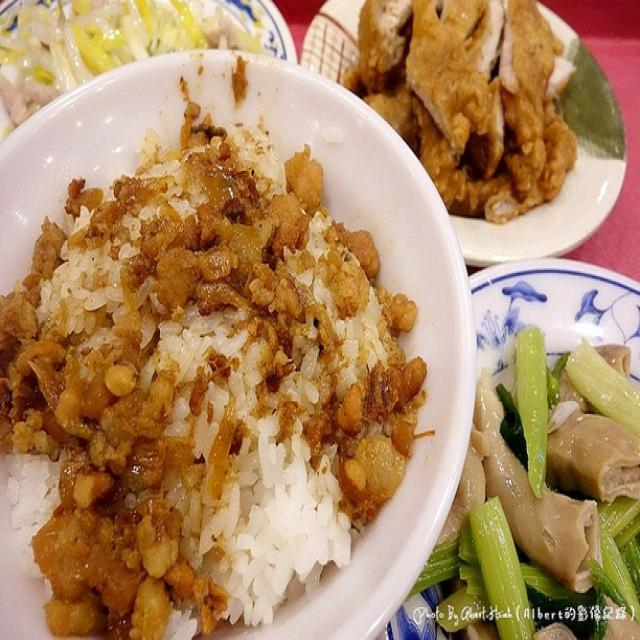猪肉菜式: (0, 23, 500, 626)
